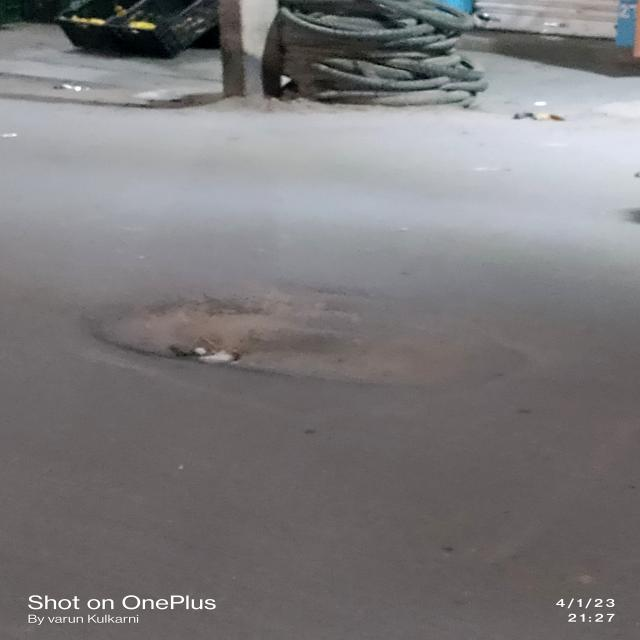potholes: (78, 298, 330, 384)
